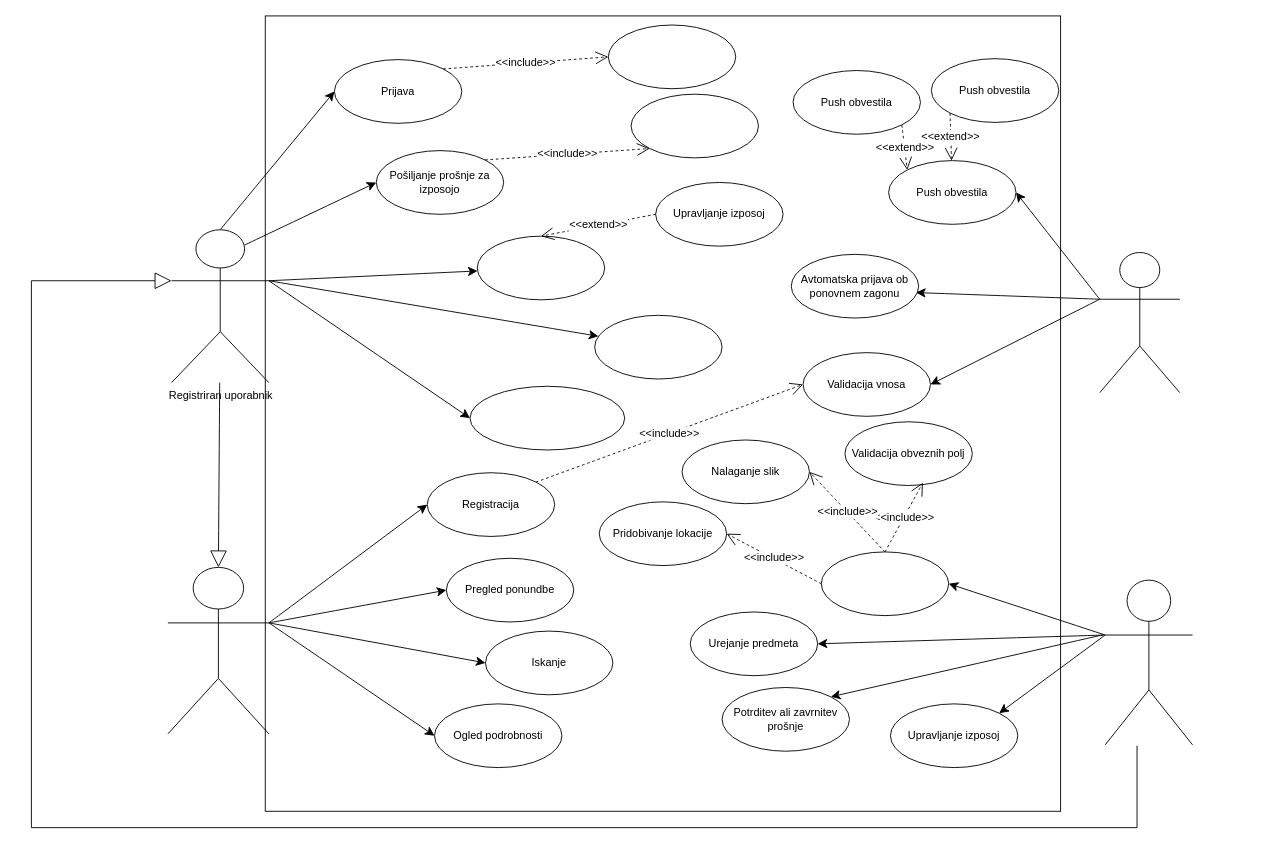
Some shapes in this 1267 by 860 pixel diagram are drawn without their labels. Each missing label, with the box of its shape:
Dodajanje predmeta: (820, 551, 949, 616)
Dodajanje predmeta (če je lastnik): (469, 385, 625, 450)
Izbira datuma: (630, 93, 758, 158)
Lastnik predmeta (posebna vloga registriranega uporabnika): (1104, 579, 1193, 745)
Neregistriran uporabnik: (167, 566, 269, 734)
Označi kot vrnjeno: (476, 235, 605, 300)
Preverjanje obstoječega uporabnika: (607, 24, 736, 89)
Sistem: (1099, 252, 1180, 393)
Urejanje profila: (594, 314, 722, 379)
